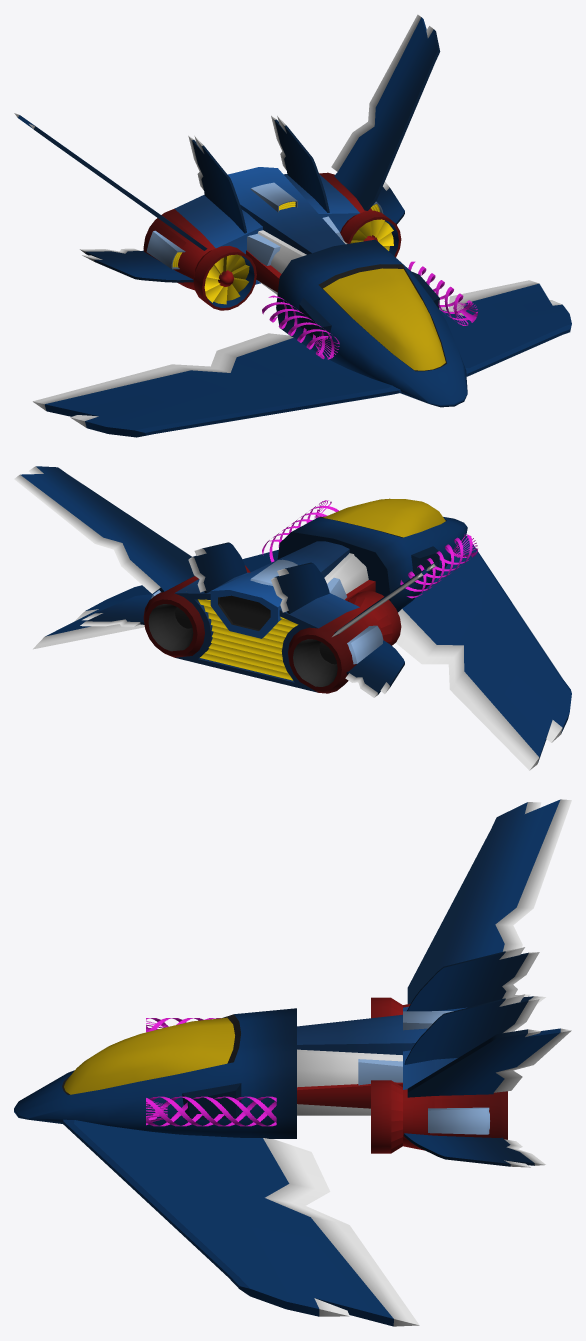
The model's file is spaceship_02.fbx.
3 renders of one model, top to bottom at view 1: azimuth 30°, elevation 25°; view 2: azimuth 150°, elevation 25°; view 3: azimuth 270°, elevation 25°, orthographic. The views are drawn at different scales.
Parts seen in each view (by area): view 1: Spaceship, weapon_right, weapon_left; view 2: Spaceship, weapon_right, weapon_left; view 3: Spaceship, weapon_left.
Boxes of the visible parts, box(x1,y1,x2,y2) form: Spaceship: box(14, 14, 571, 437); weapon_right: box(262, 295, 339, 359); weapon_left: box(408, 261, 477, 325); Spaceship: box(14, 466, 571, 770); weapon_right: box(400, 534, 477, 598); weapon_left: box(262, 500, 338, 562); Spaceship: box(14, 799, 571, 1326); weapon_left: box(146, 1096, 276, 1126).
Bounding box in the file's own units: 105 × 47.11 × 87.38.
Materials: 1 (1 with a texture image).
